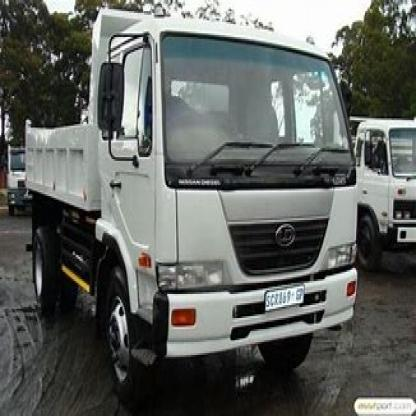dump_truck: (19, 4, 364, 377)
